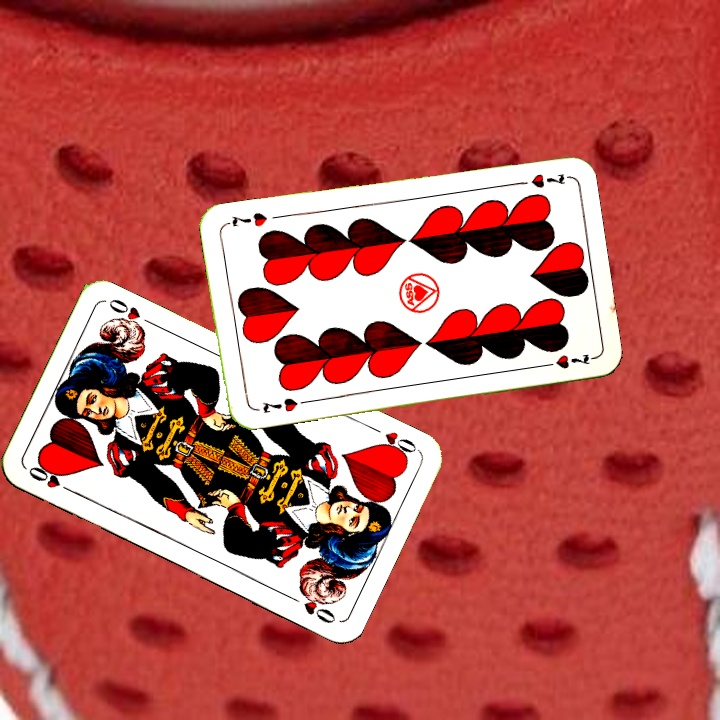H7: (511, 169, 570, 191), (258, 393, 300, 416)
HO: (365, 421, 421, 462), (24, 462, 78, 497)
